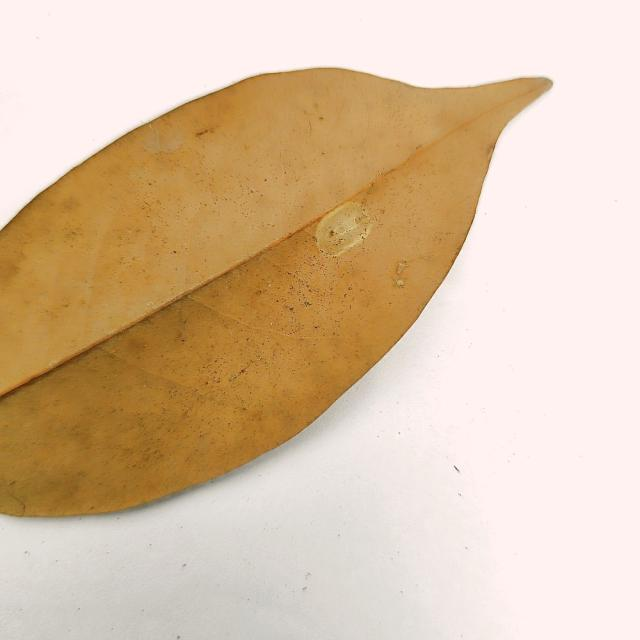Dry_Leaf-Lychee: (0, 68, 554, 521)
